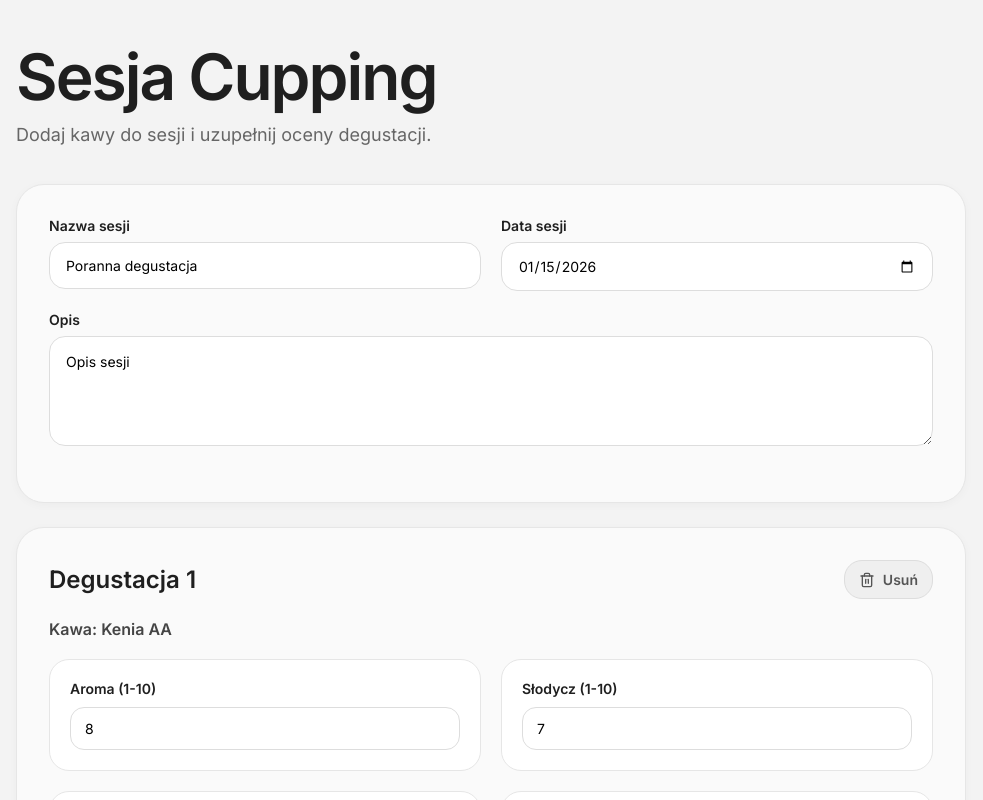
Test: CuppingDetails › shows validation error when session name is empty
Step 1. Clear the field labelled "Nazwa sesji" → (265, 266), box top-left (49, 242), bottom-right (481, 289)
(page scrolled)
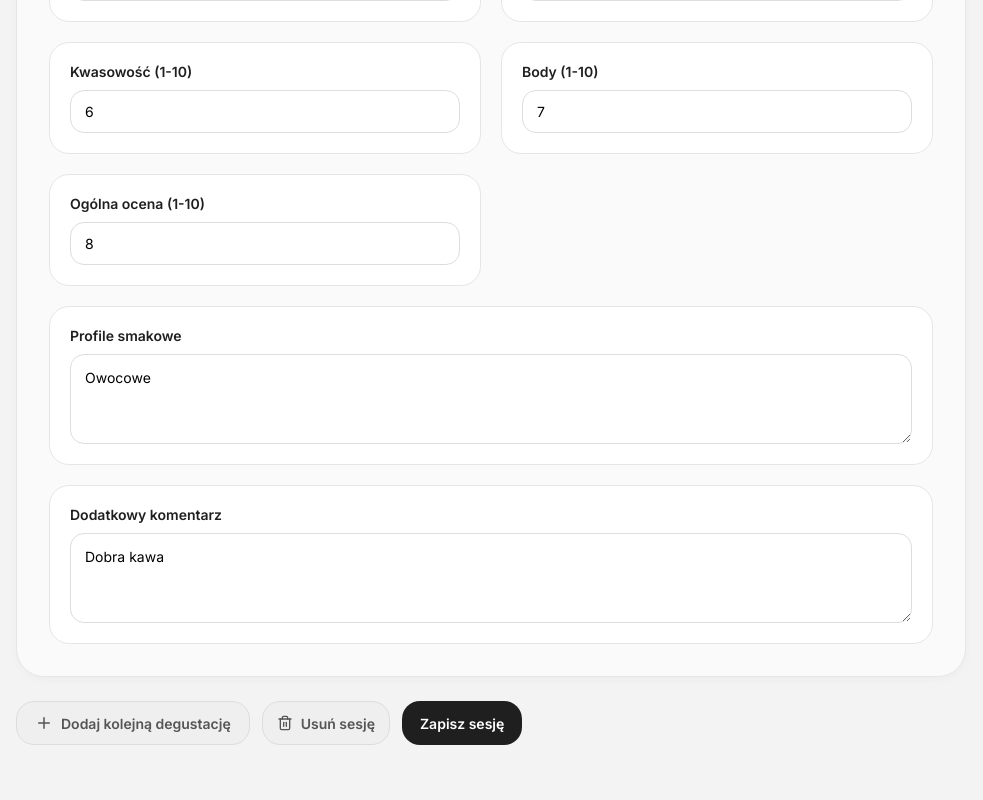
Step 2. Click the button "Zapisz sesję" → (462, 723), box top-left (402, 701), bottom-right (522, 745)
(page scrolled)
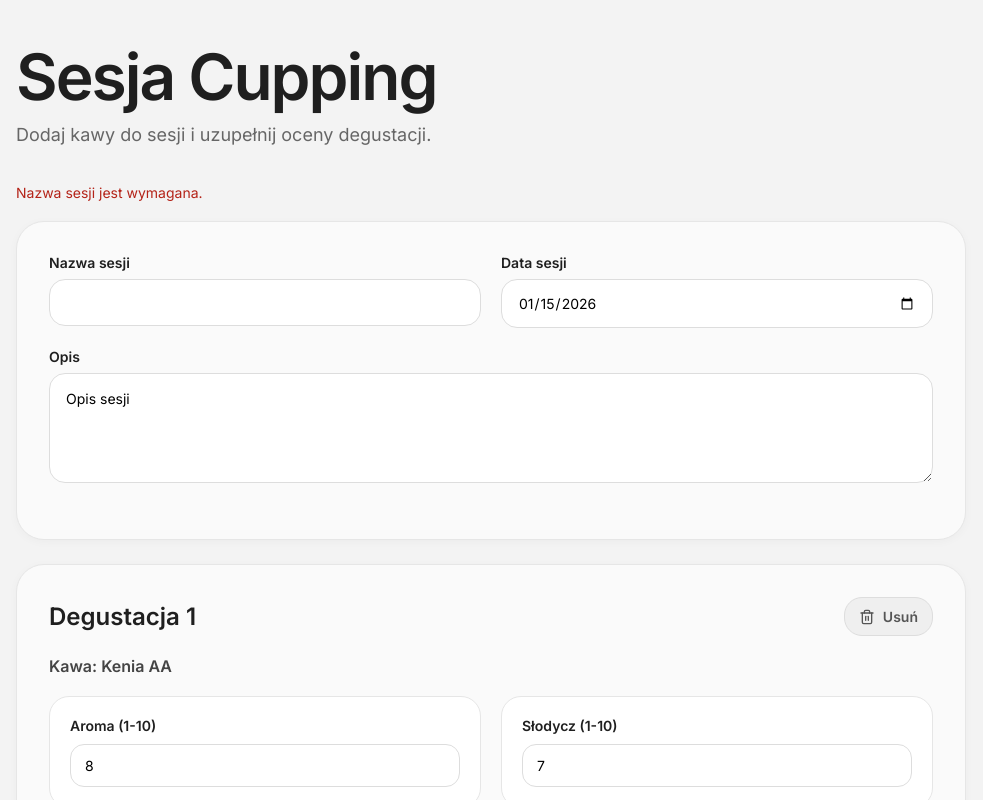
Now the text "Nazwa sesji jest wymagana." is shown, box top-left (16, 184), bottom-right (203, 201)
